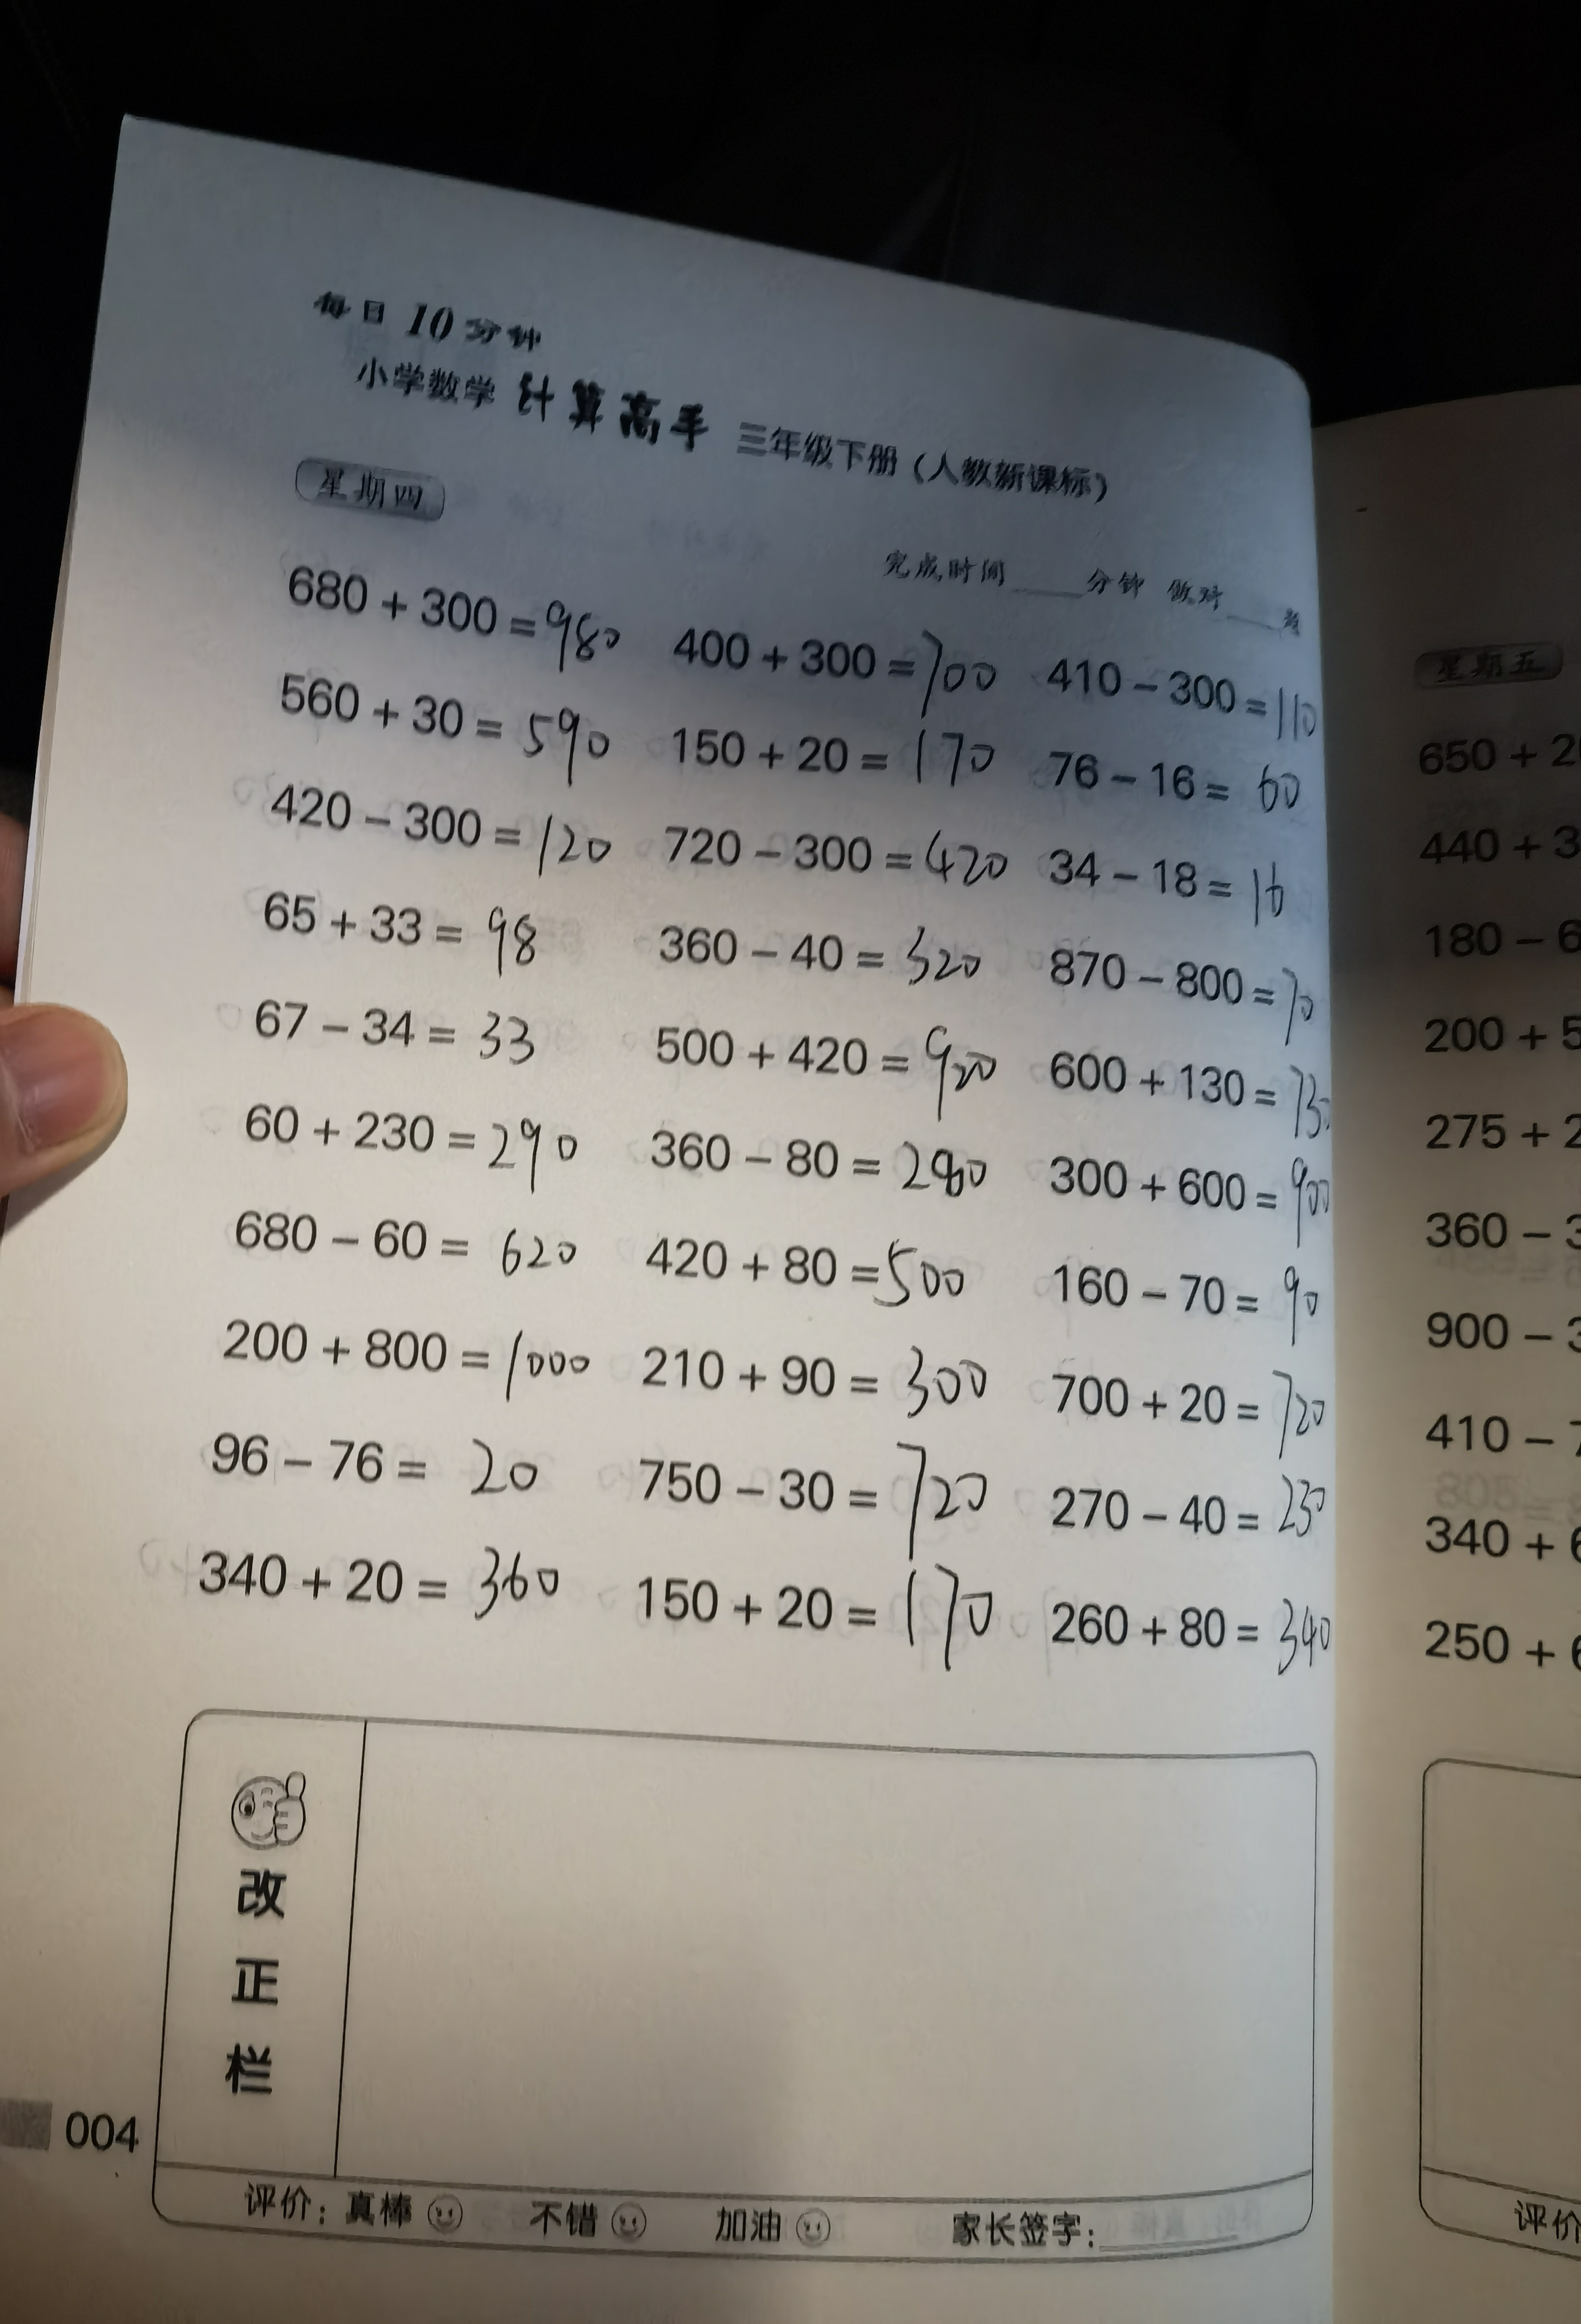equation: (247, 542, 632, 665), (621, 1436, 1008, 1551), (184, 1532, 586, 1638), (618, 1567, 1002, 1673), (642, 1011, 1023, 1115), (266, 678, 628, 785), (226, 1089, 591, 1195), (625, 1122, 1000, 1223), (219, 1301, 591, 1401), (199, 1419, 559, 1519), (646, 912, 1011, 1011), (1039, 1586, 1348, 1701), (263, 778, 637, 872), (656, 616, 1013, 713), (247, 866, 573, 971), (214, 1195, 591, 1285), (651, 711, 1013, 801), (1027, 935, 1341, 1038), (642, 1233, 988, 1325), (224, 981, 551, 1078), (1045, 1043, 1341, 1149), (656, 817, 1022, 902), (1052, 639, 1332, 748), (632, 1341, 1023, 1413), (1059, 1362, 1343, 1459), (1045, 1154, 1353, 1241), (1032, 1484, 1343, 1555), (1055, 750, 1322, 831), (1053, 1262, 1322, 1339), (1055, 845, 1295, 930)
